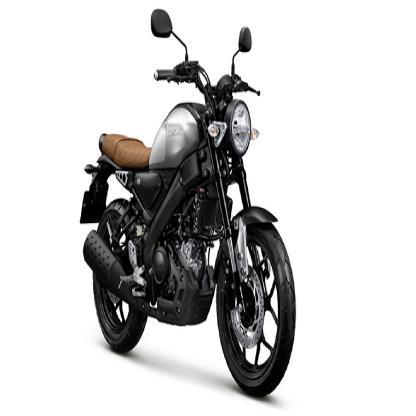Motorcycle: (79, 3, 304, 399)
